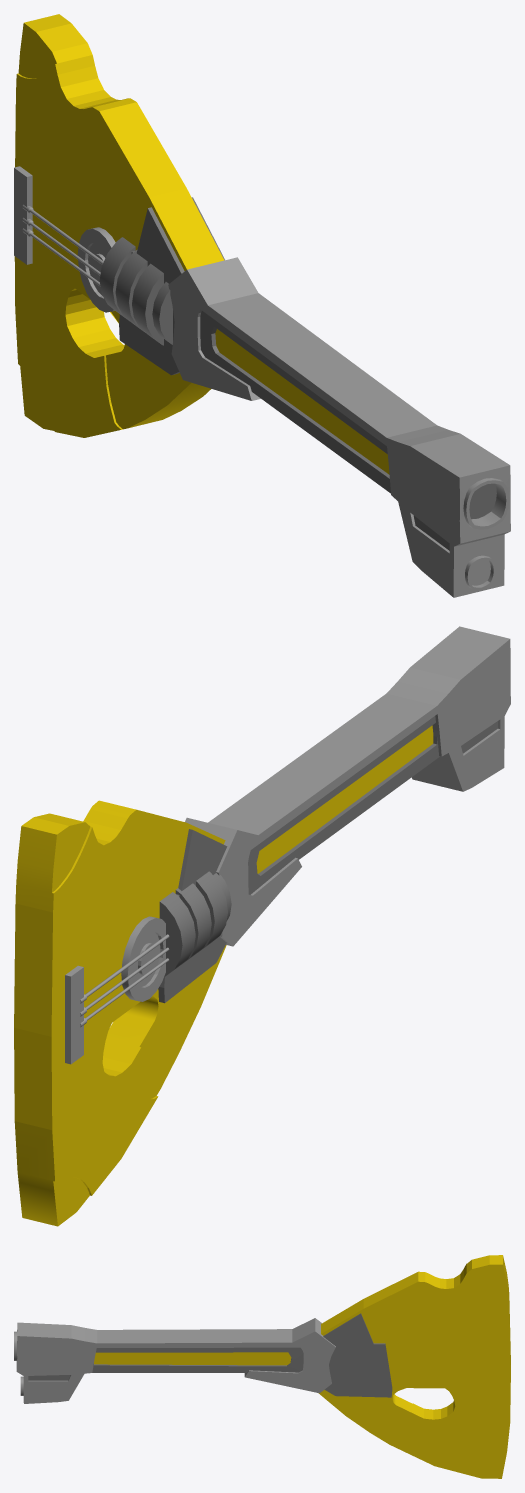
Rendered from Balayzer.fbx.
3 renders of one model, top to bottom at view 1: azimuth 30°, elevation 25°; view 2: azimuth 150°, elevation 25°; view 3: azimuth 270°, elevation 25°, orthographic. The views are drawn at different scales.
Parts seen in each view (by area): view 1: Osnova, Nakladka_2, Nakladka, Otverstie, pCube1, pCylinder3, pCylinder1, Dulo_1, pCylinder2, pCylinder4; view 2: Osnova, Nakladka_2, Nakladka, Otverstie, pCylinder1, pCube1, pCylinder2, pCylinder3; view 3: Osnova, Nakladka_2, Nakladka.
Part boxes in pixels (x1,y1,x2,y2): Osnova: (14,14,389,474); Nakladka_2: (168,257,510,597); Nakladka: (119,197,496,550); Otverstie: (77,227,115,312); pCube1: (14,166,32,264); pCylinder3: (132,263,163,345); pCylinder1: (99,237,135,320); Dulo_1: (463,478,509,529); pCylinder2: (115,249,147,332); pCylinder4: (152,282,172,344); Osnova: (14,725,433,1226); Nakladka_2: (185,626,510,946); Nakladka: (158,716,497,1003); Otverstie: (121,916,165,1001); pCylinder1: (159,892,195,976); pCube1: (65,965,83,1064); pCylinder2: (175,883,211,964); pCylinder3: (196,871,227,952); Osnova: (94,1255,510,1478); Nakladka_2: (16,1318,335,1403); Nakladka: (28,1313,392,1397).
Bounding box in the file's own units: 41.83 × 234 × 492.
